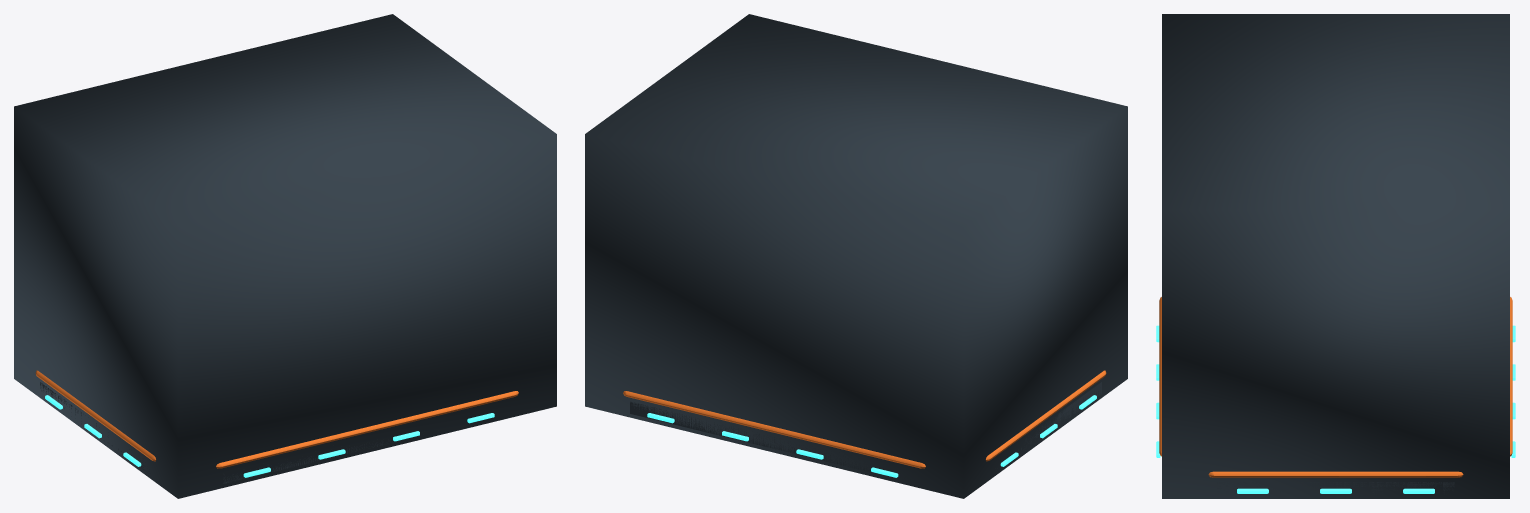
Rendered from solar.glb.
The picture shows the model from 3 angles, left to right: view 1: azimuth 30°, elevation 25°; view 2: azimuth 150°, elevation 25°; view 3: azimuth 270°, elevation 25°; orthographic projection. The views are drawn at different scales.
Parts seen in each view (by area): view 1: COL_body, plinth lip; view 2: COL_body, plinth lip, plinth; view 3: COL_body, plinth lip, plinth.
Boxes of the visible parts, bbox=[...] form: COL_body: bbox=[14, 14, 556, 498]; plinth lip: bbox=[35, 370, 518, 468]; COL_body: bbox=[585, 14, 1127, 498]; plinth lip: bbox=[623, 370, 1106, 468]; plinth: bbox=[630, 382, 1101, 483]; COL_body: bbox=[1162, 14, 1509, 498]; plinth lip: bbox=[1159, 297, 1512, 477]; plinth: bbox=[1217, 482, 1454, 494].
Size of the model in its own units: 3.28 by 2.2 by 2.48.
